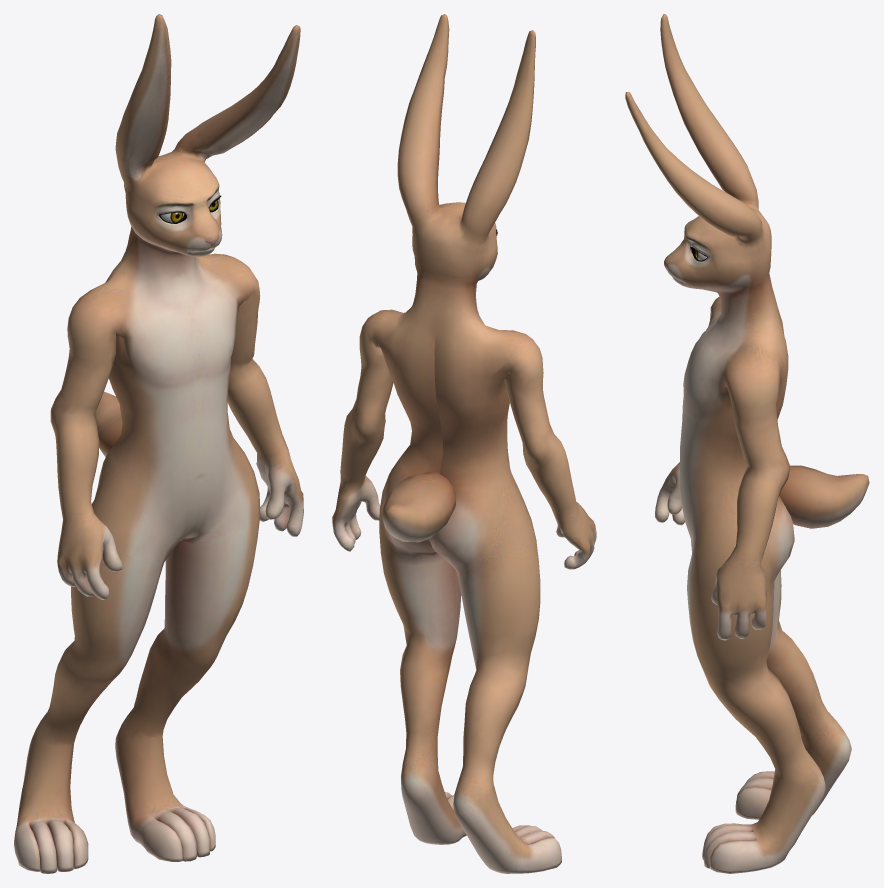
Rendered from RabbitDraco.gltf.
3 renders of one model, left to right at view 1: azimuth 30°, elevation 25°; view 2: azimuth 150°, elevation 25°; view 3: azimuth 270°, elevation 25°, orthographic. The views are drawn at different scales.
Parts seen in each view (by area): view 1: Plane_005; view 2: Plane_005; view 3: Plane_005.
Part boxes in pixels (x1,y1,x2,y2): Plane_005: (14,14,303,873); Plane_005: (332,14,596,873); Plane_005: (625,14,869,873).
Size of the model in its own units: 1.38 by 4.43 by 1.19.
Materials: 2 (2 with a texture image).
